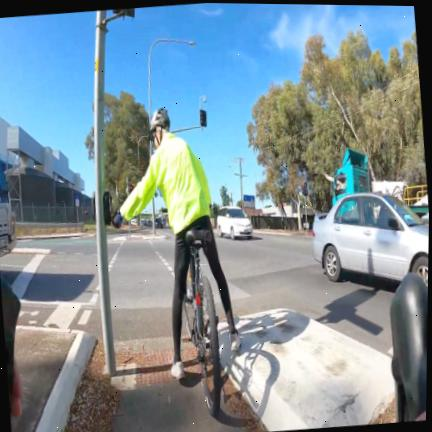Bike_Lane: (16, 236, 97, 257)
